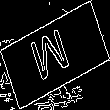M_SE: (31, 23, 79, 87)
